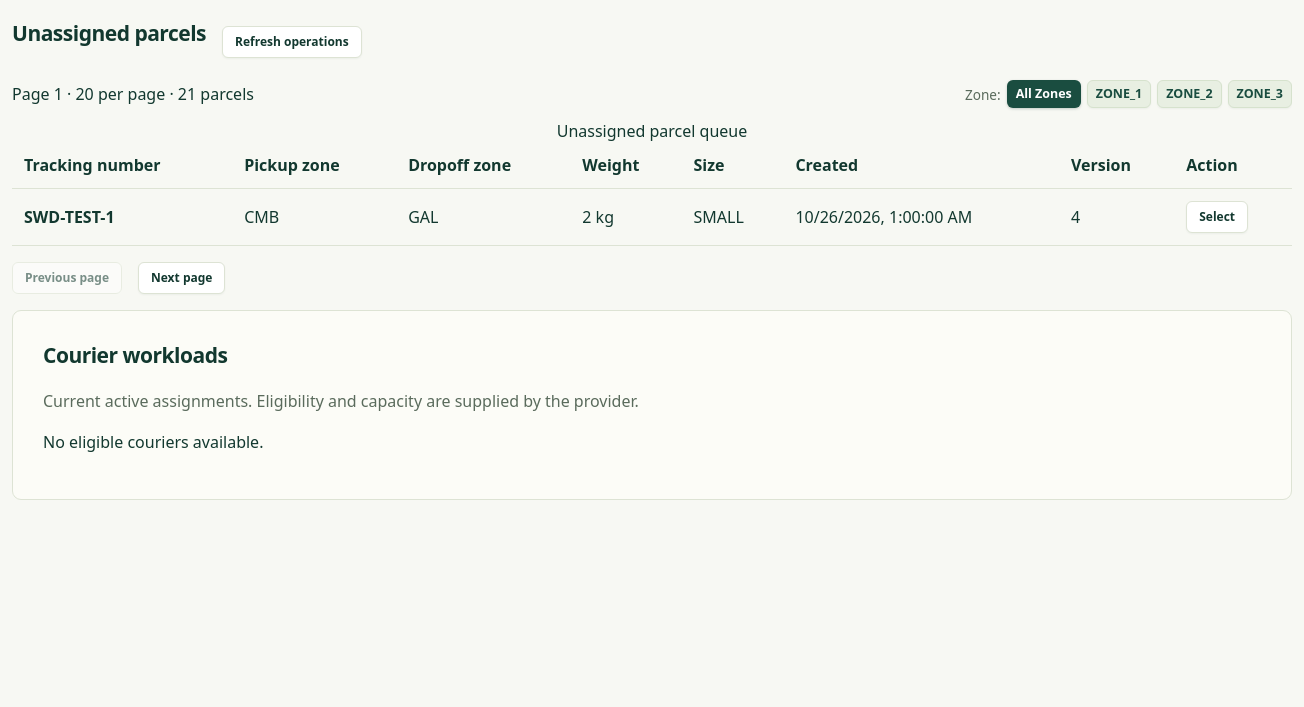
Dispatcher operations › requires a selected eligible courier
Click the button with aria-label "Select SWD-TEST-1". click: click(1217, 217)
box: [1186,201,1248,233]
(page scrolled)
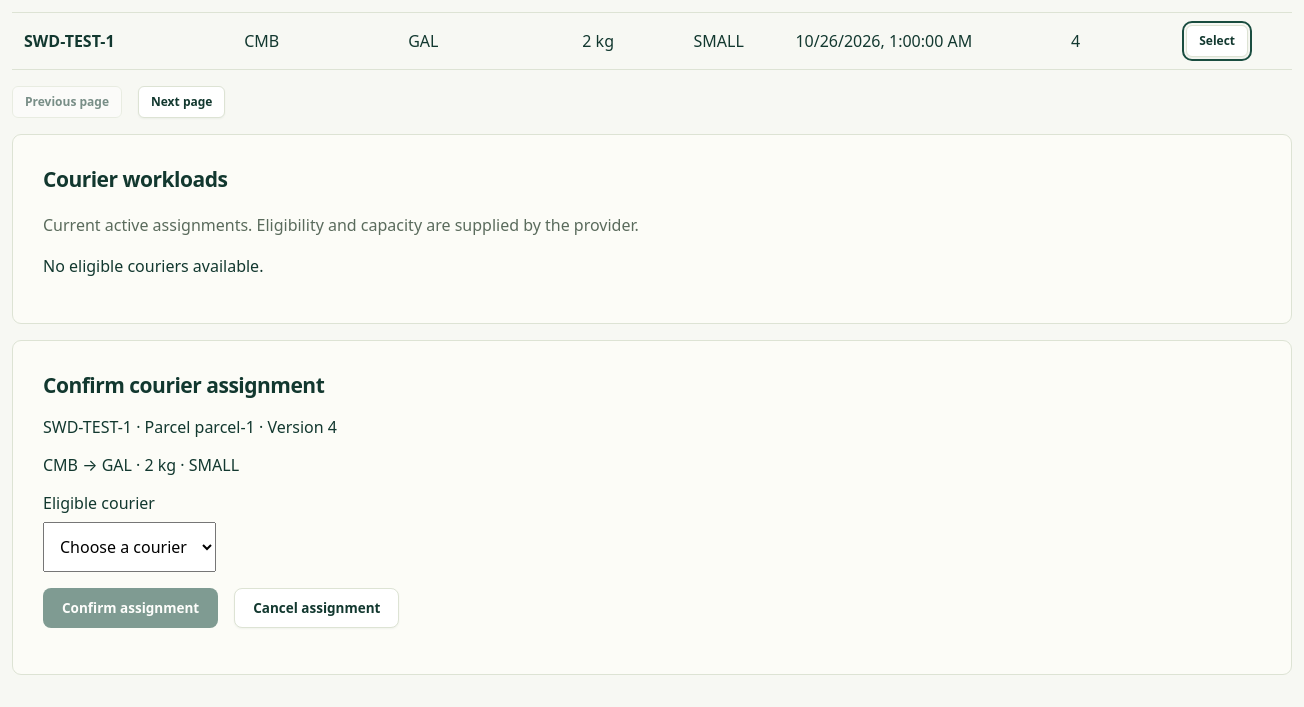
Result: the button "Confirm assignment" is disabled at [43,588,218,628]
